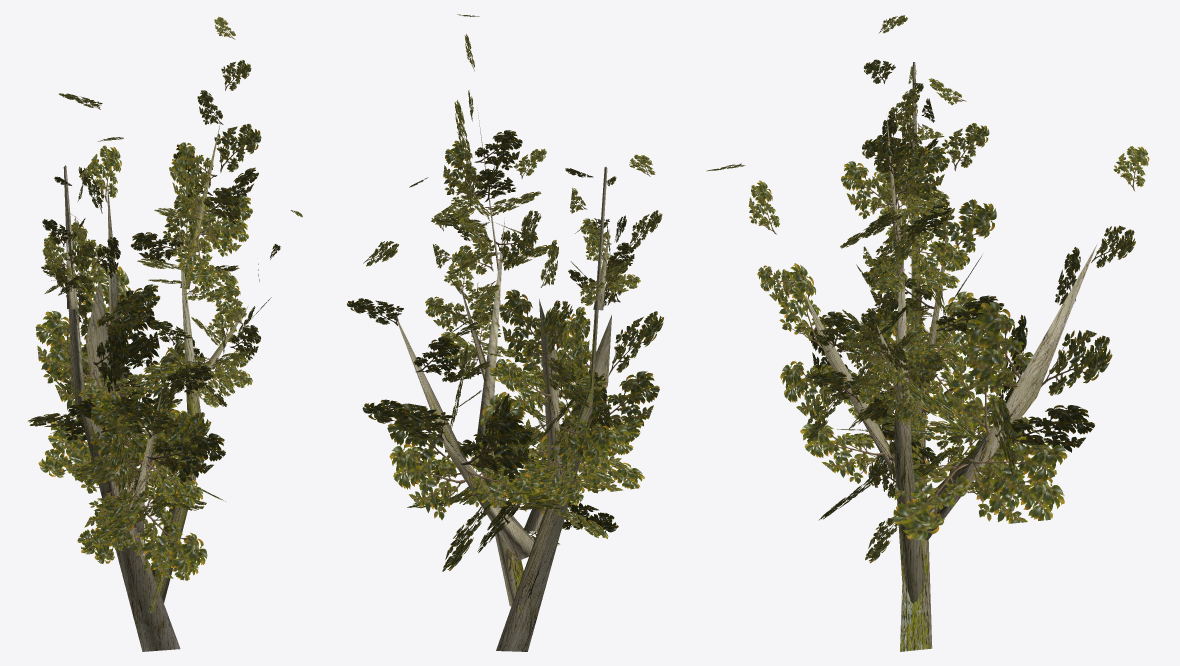
The model's file is Tree1LOD3.fbx.
3 views of the same model, side by side, from view 1: azimuth 30°, elevation 25°; view 2: azimuth 150°, elevation 25°; view 3: azimuth 270°, elevation 25° (orthographic). The views are drawn at different scales.
Parts seen in each view (by area): view 1: Tree1LOD3; view 2: Tree1LOD3; view 3: Tree1LOD3.
Boxes of the visible parts, bbox=[...] form: Tree1LOD3: bbox=[28, 16, 302, 651]; Tree1LOD3: bbox=[347, 14, 663, 651]; Tree1LOD3: bbox=[706, 15, 1149, 651].
Size of the model in its own units: 820 by 1947 by 1251.
